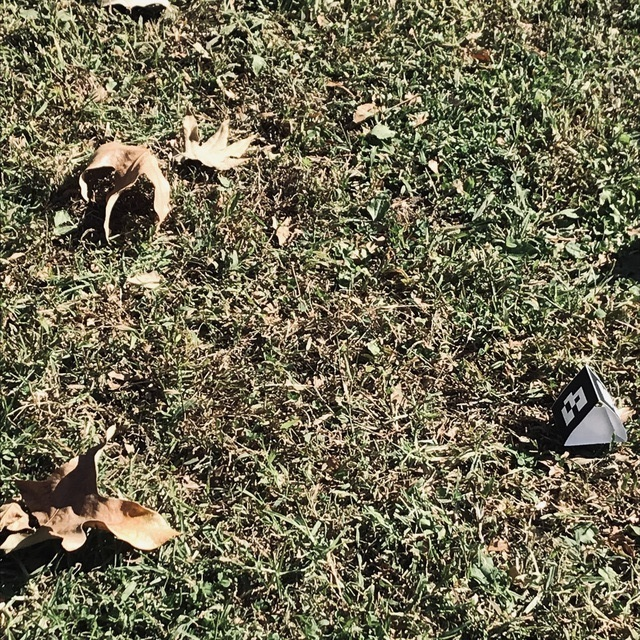ARTag: (552, 365, 628, 448)
